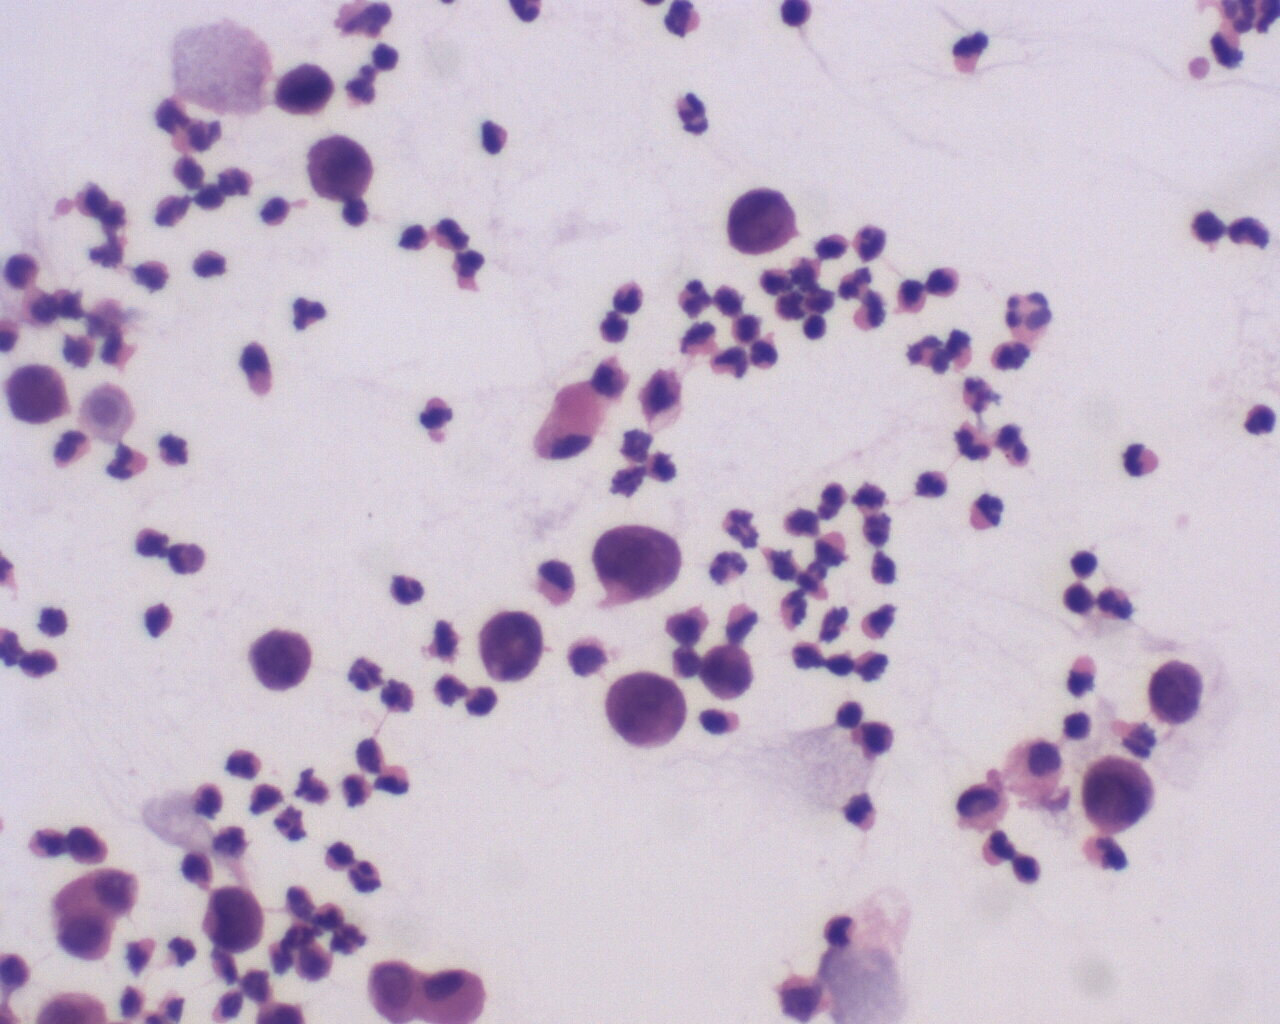ab: (589, 520, 684, 610), (600, 668, 686, 754), (1081, 757, 1159, 838), (304, 127, 381, 207), (474, 607, 549, 686), (723, 183, 798, 257), (1144, 656, 1220, 728), (248, 622, 318, 698), (200, 886, 274, 953), (4, 360, 75, 425), (697, 639, 757, 702)
meso: (420, 958, 493, 1024), (1003, 737, 1068, 802), (364, 955, 421, 1024)
neutro: (101, 439, 156, 485), (708, 546, 757, 598), (965, 488, 1014, 533), (668, 275, 712, 319), (385, 568, 430, 609), (1121, 438, 1160, 483), (955, 419, 994, 462), (979, 825, 1016, 869), (347, 858, 387, 898), (290, 294, 326, 334)
